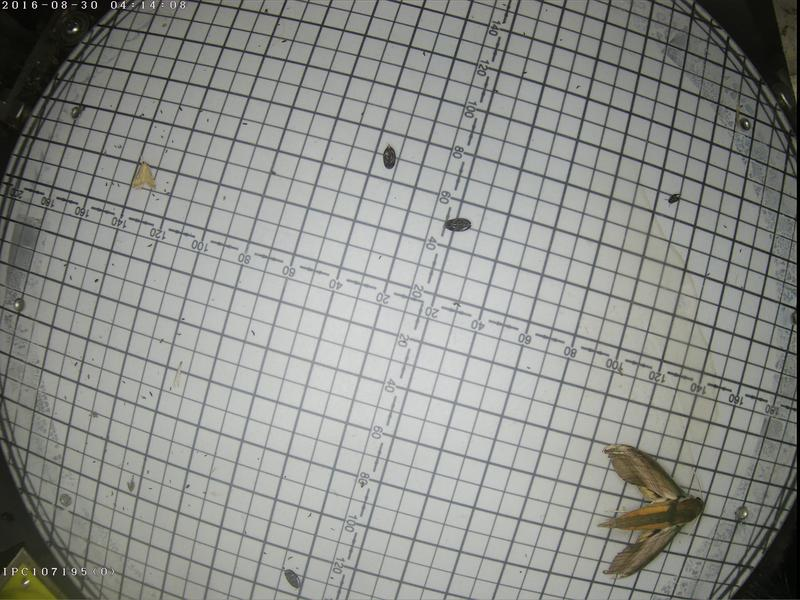Meadow borer: (128, 157, 156, 190)
